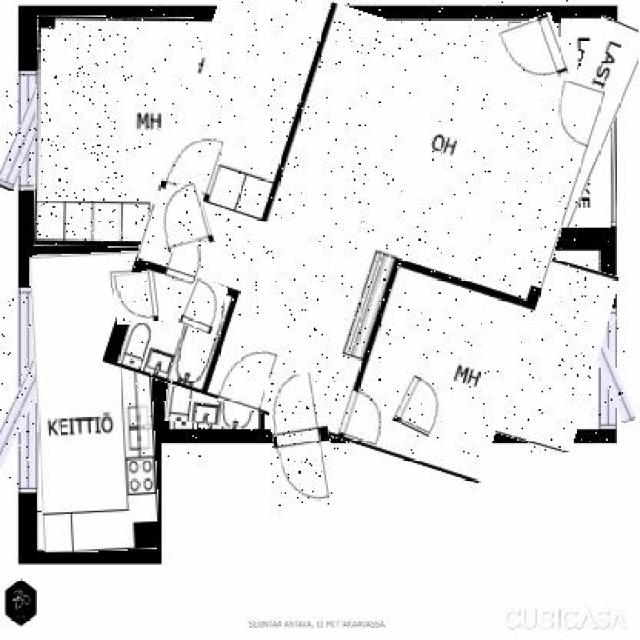door: (269, 372, 334, 506), (503, 17, 568, 86), (157, 183, 209, 251), (397, 378, 446, 434), (114, 272, 158, 323), (183, 280, 223, 332)
window: (0, 289, 55, 489), (532, 82, 577, 222), (6, 72, 48, 192), (589, 310, 625, 424)
zone: (128, 0, 577, 457), (36, 17, 264, 246), (396, 237, 610, 441), (34, 252, 155, 552), (540, 17, 631, 226), (166, 329, 262, 428)
